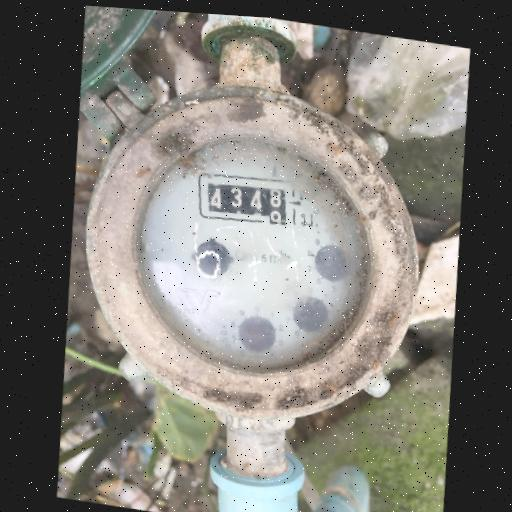3: (225, 183, 250, 217)
4: (244, 185, 271, 219), (204, 181, 230, 215)
8: (266, 186, 289, 226)
border_water_meter_number: (194, 166, 300, 234)
